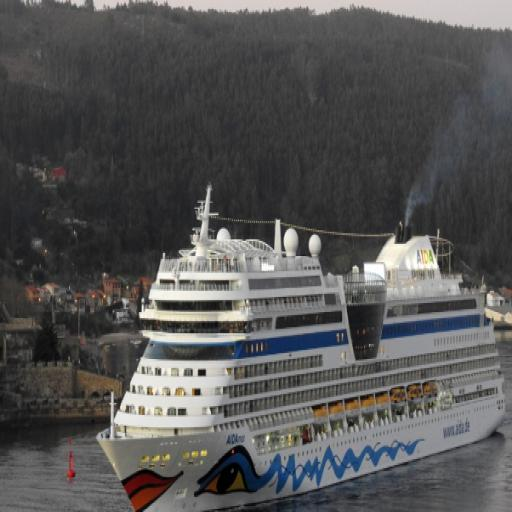cruises: (98, 175, 512, 512)
